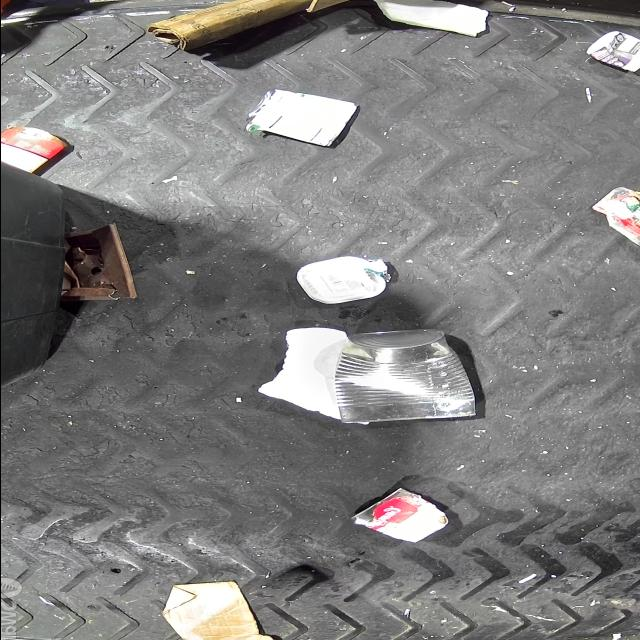can: (334, 329, 474, 423), (243, 88, 360, 148), (349, 488, 448, 544)
